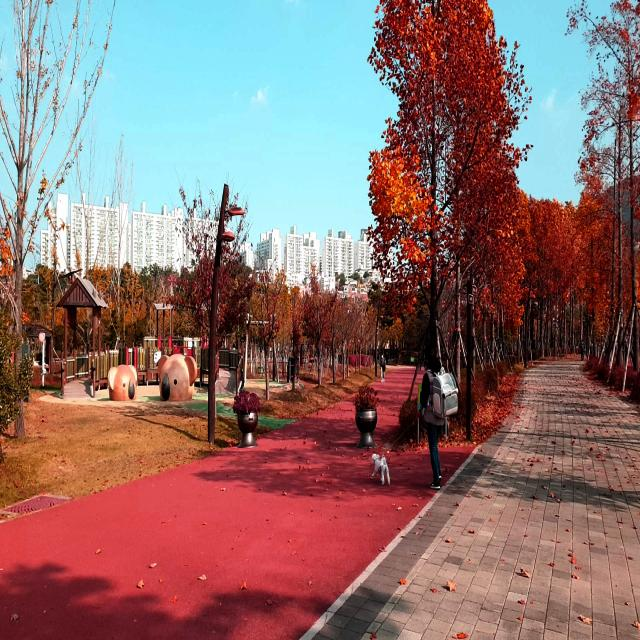Leashed_Dog: (370, 403, 438, 488)
